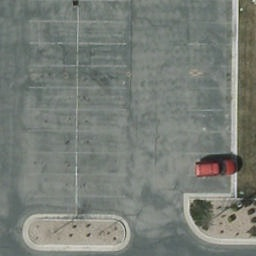car: (193, 159, 237, 177)
